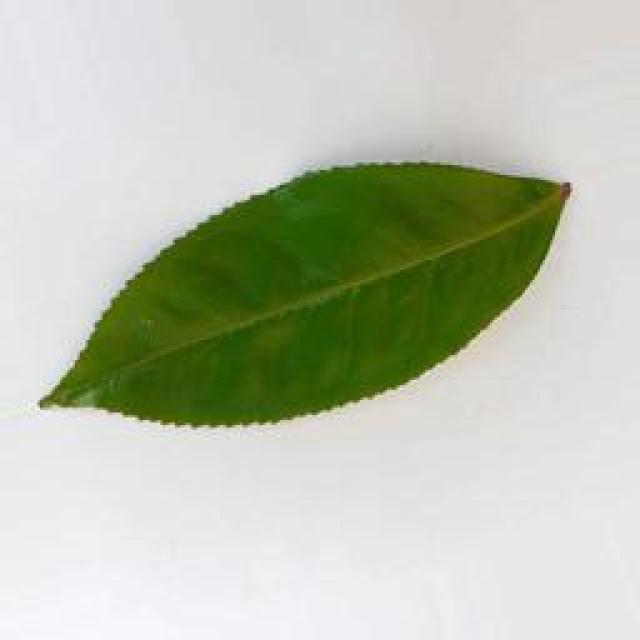Healthy: (22, 150, 580, 440)
